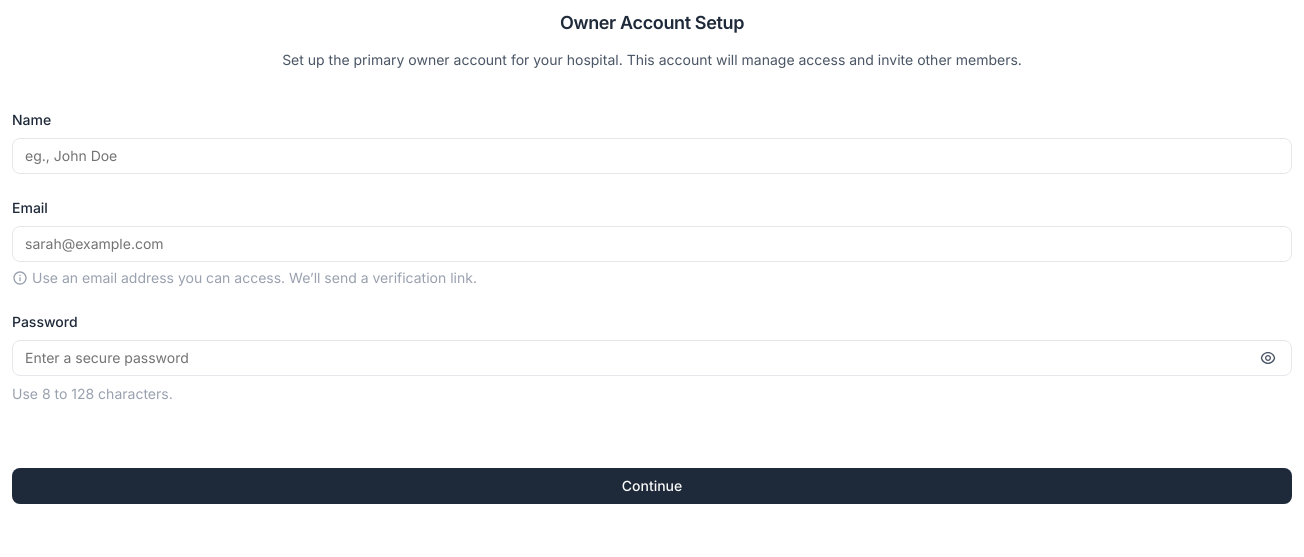
OwnerClient › keeps the owner form available and shows the account-creation error
Type "Sarah Thompson" into the field labelled "Name".
click(652, 156); type("Sarah Thompson")  # box [12,138,1292,174]
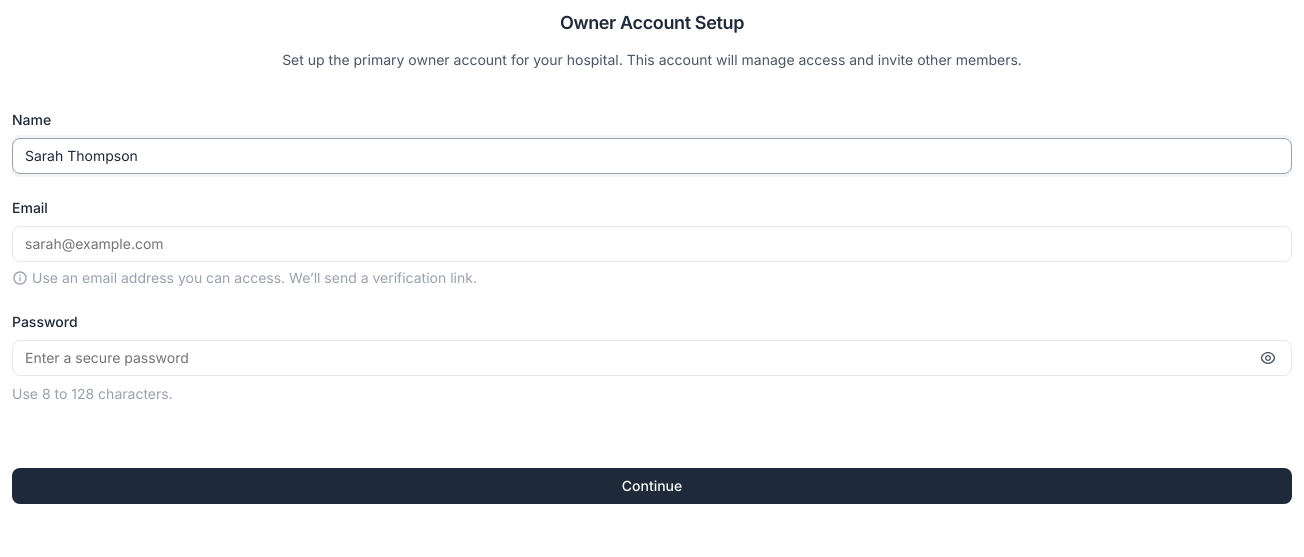
Type "sarah@stmary.org" into the field labelled "Email".
click(652, 244); type("sarah@stmary.org")  # box [12,226,1292,262]
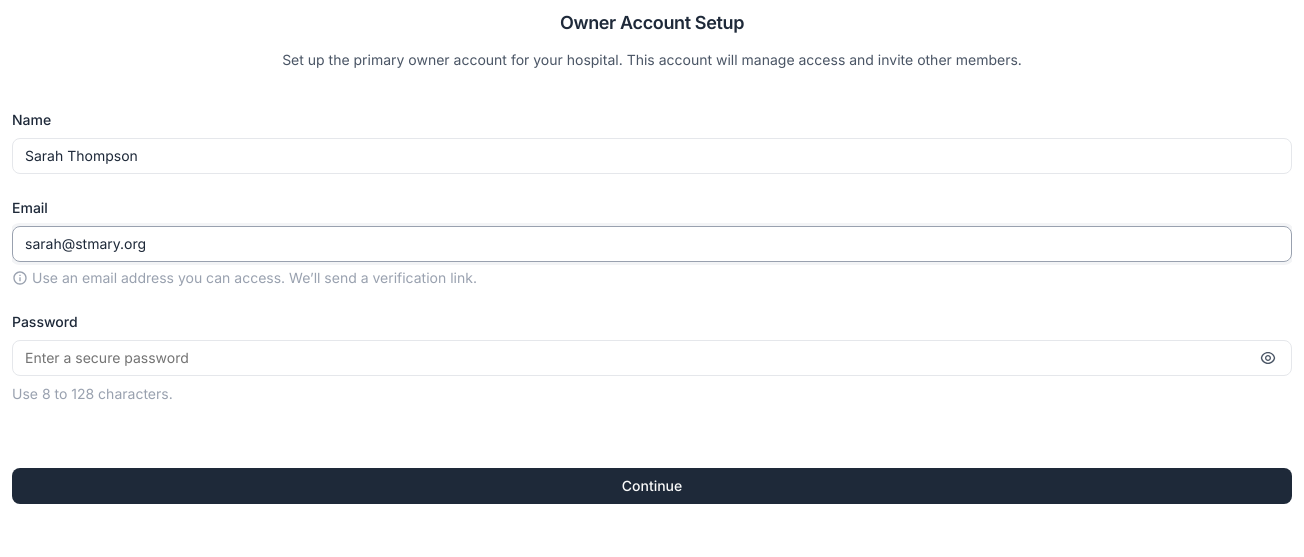
Type "secure-password" into the password field labelled "Password".
click(652, 358); type("secure-password")  # box [12,340,1292,376]
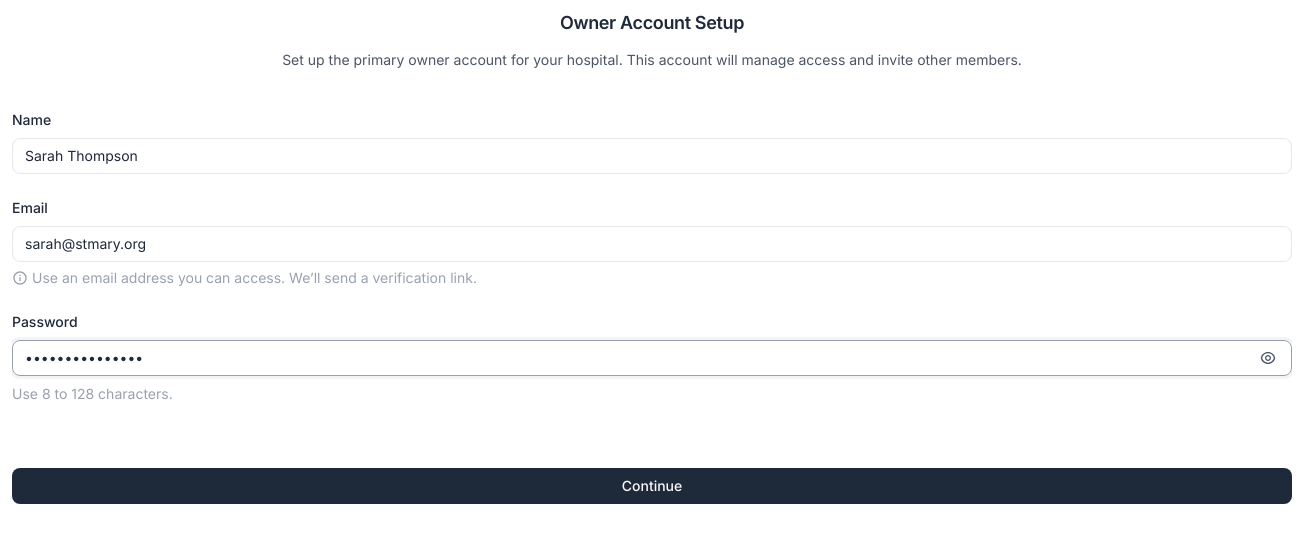
Click the button "Continue".
click(652, 486)  # box [12,468,1292,504]
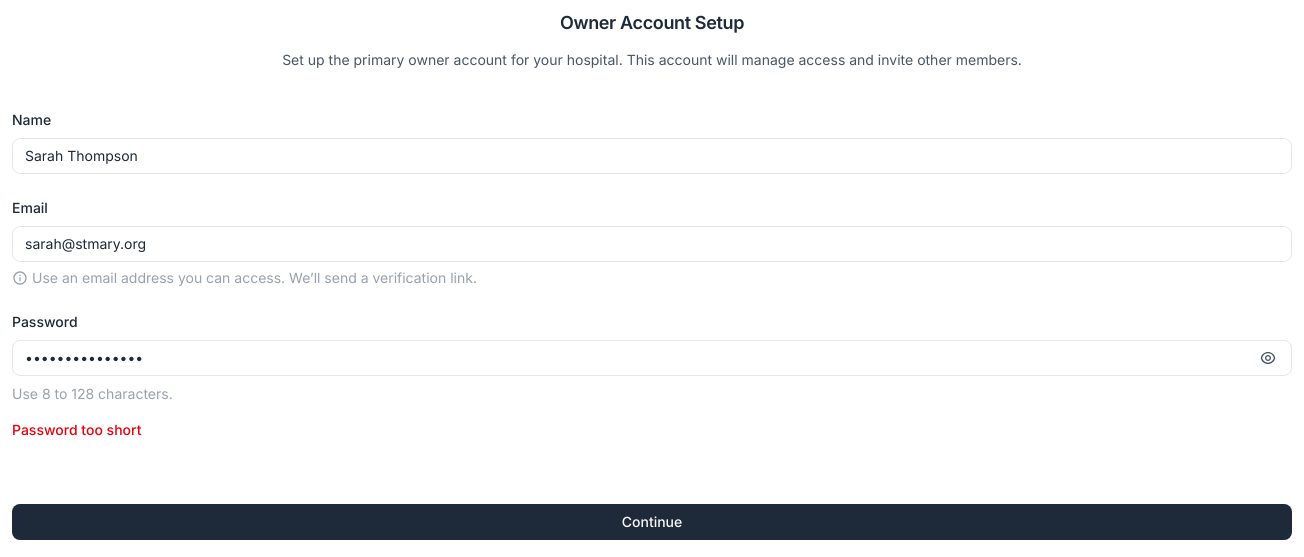
Expected: the button "Continue" is enabled, [12,504,1292,540]
Now the message reads "Password too short", box [12,421,141,438]
